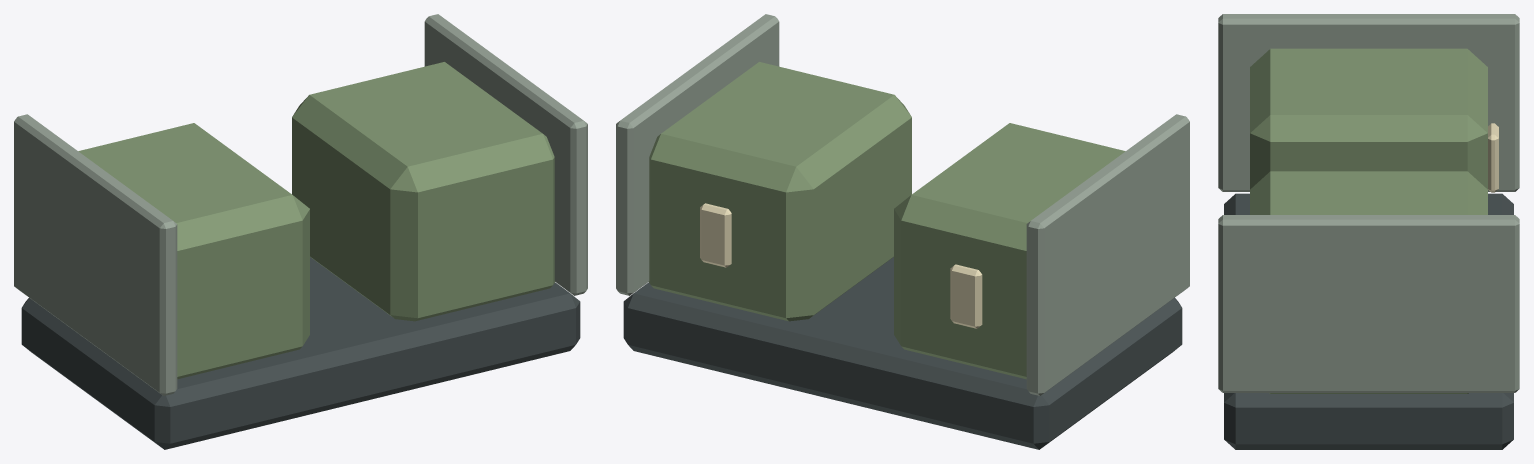
The model's file is acc_cargorack.glb.
3 views of the same model, side by side, from view 1: azimuth 30°, elevation 25°; view 2: azimuth 150°, elevation 25°; view 3: azimuth 270°, elevation 25° (orthographic).
Visible parts, largest first — view 1: acc_cargorack_TankPaint, acc_cargorack_ArmorEdges, acc_cargorack_RunningGear; view 2: acc_cargorack_TankPaint, acc_cargorack_ArmorEdges, acc_cargorack_RunningGear, acc_cargorack_Markings; view 3: acc_cargorack_ArmorEdges, acc_cargorack_TankPaint, acc_cargorack_RunningGear, acc_cargorack_Markings.
Part boxes in pixels (<box>): acc_cargorack_TankPaint: <box>78,62,554,379</box>; acc_cargorack_ArmorEdges: <box>14,14,587,395</box>; acc_cargorack_RunningGear: <box>21,257,580,449</box>; acc_cargorack_TankPaint: <box>649,62,1125,379</box>; acc_cargorack_ArmorEdges: <box>616,14,1189,395</box>; acc_cargorack_RunningGear: <box>623,257,1182,449</box>; acc_cargorack_Markings: <box>700,203,982,328</box>; acc_cargorack_ArmorEdges: <box>1218,14,1519,392</box>; acc_cargorack_TankPaint: <box>1250,48,1487,393</box>; acc_cargorack_RunningGear: <box>1224,193,1513,449</box>; acc_cargorack_Markings: <box>1488,123,1498,192</box>.
Bounding box in the file's own units: 0.855 × 0.445 × 0.52.
